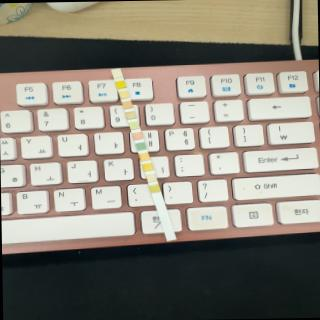mark: (118, 90, 128, 98), (122, 100, 132, 108), (132, 132, 142, 140), (139, 152, 149, 160), (136, 142, 146, 150), (142, 162, 152, 170), (150, 184, 160, 192), (112, 70, 122, 77), (116, 81, 126, 88), (147, 174, 156, 181), (126, 112, 136, 118), (129, 122, 139, 128)
